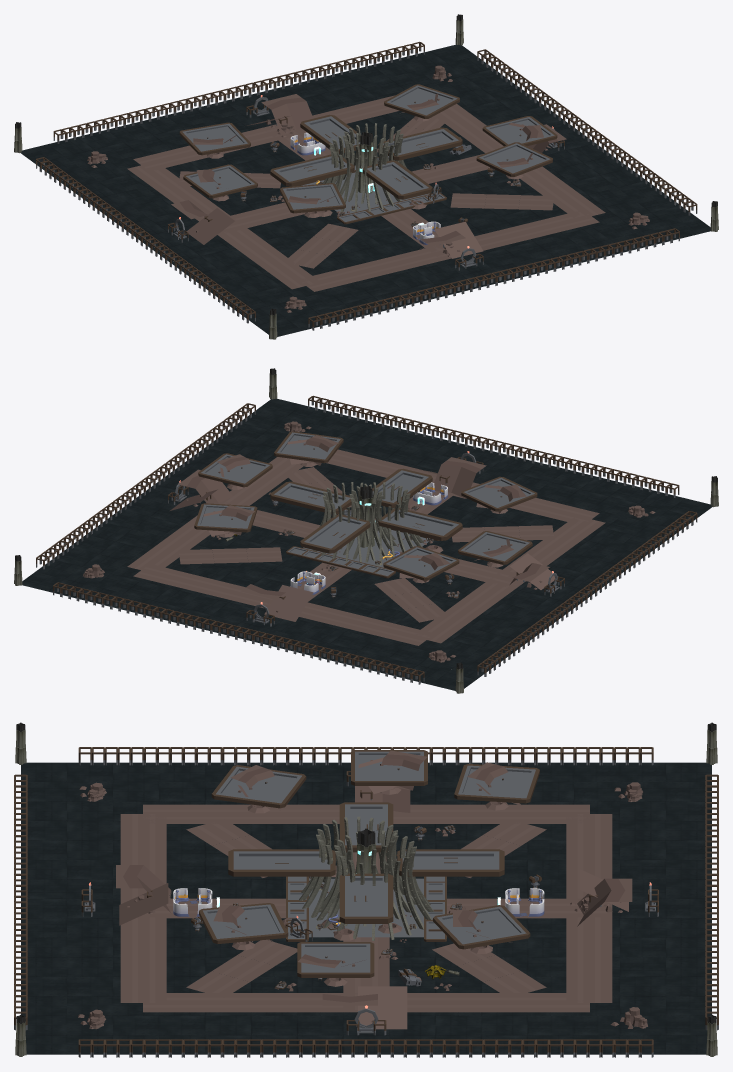
The model's file is titans.glb.
3 views of the same model, one above another, from view 1: azimuth 30°, elevation 25°; view 2: azimuth 150°, elevation 25°; view 3: azimuth 270°, elevation 25° (orthographic). The views are drawn at different scales.
Visible parts, largest first — view 1: Ceiling (×15), CentralTower__mesh_51_Mesh_tall_arch_subset_0 (×2), Canyon_S__Mesh_terrain_sideCliff_1, Island_NW__Mesh_platform_large_1, Island_SW__Mesh_platform_large_1, Island_W__Mesh_platform_large_1, Island_NE__Mesh_platform_large_1, Island_SE__Mesh_platform_large_1, Bridge_N__Mesh_platform_long_1, Canyon_N__terrain_side, Canyon_W__terrain_side, Island_E__Mesh_platform_large_1 (+9 smaller); view 2: Ceiling (×13), CentralTower__mesh_51_Mesh_tall_arch_subset_0 (×2), Canyon_N__Mesh_terrain_sideCliff_1, Canyon_S__terrain_side, Island_W__Mesh_platform_large_1, Bridge_S__Mesh_platform_long_1, Bridge_W__Mesh_platform_long_1, Island_NW__Mesh_platform_large_1, Island_E__Mesh_platform_large_1, Island_SW__Mesh_platform_large_1, Island_NE__Mesh_platform_large_1, Island_SE__Mesh_platform_large_1 (+11 smaller); view 3: Ceiling (×118), Mesh_terrain_roadStraight (×38), CentralTower__mesh_51_Mesh_tall_arch_subset_0 (×2), Canyon_E__terrain_side, Island_E__Mesh_platform_large_1, Island_NE__Mesh_platform_large_1, Island_SE__Mesh_platform_large_1, Island_SW__Mesh_platform_large_1, Bridge_E__Mesh_platform_long_1, Bridge_N__Mesh_platform_long_1, Island_NW__Mesh_platform_large_1, Bridge_S__Mesh_platform_long_1 (+18 smaller).
Part boxes in pixels (<box>): Ceiling (×15): <box>99,77,608,303</box>; CentralTower__mesh_51_Mesh_tall_arch_subset_0 (×2): <box>322,123,406,212</box>; Canyon_S__Mesh_terrain_sideCliff_1: <box>266,97,313,135</box>; Island_NW__Mesh_platform_large_1: <box>283,184,342,209</box>; Island_SW__Mesh_platform_large_1: <box>182,123,247,151</box>; Island_W__Mesh_platform_large_1: <box>186,165,254,194</box>; Island_NE__Mesh_platform_large_1: <box>479,143,550,173</box>; Island_SE__Mesh_platform_large_1: <box>387,85,457,115</box>; Bridge_N__Mesh_platform_long_1: <box>367,162,428,194</box>; Canyon_N__terrain_side: <box>434,221,483,258</box>; Canyon_W__terrain_side: <box>186,208,234,244</box>; Island_E__Mesh_platform_large_1: <box>486,117,554,144</box>; Ceiling (×13): <box>94,446,650,657</box>; CentralTower__mesh_51_Mesh_tall_arch_subset_0 (×2): <box>313,482,423,562</box>; Canyon_N__Mesh_terrain_sideCliff_1: <box>434,460,481,498</box>; Canyon_S__terrain_side: <box>264,585,313,621</box>; Island_W__Mesh_platform_large_1: <box>461,532,529,561</box>; Bridge_S__Mesh_platform_long_1: <box>304,516,366,548</box>; Bridge_W__Mesh_platform_long_1: <box>382,509,458,535</box>; Island_NW__Mesh_platform_large_1: <box>463,477,534,507</box>; Island_E__Mesh_platform_large_1: <box>201,454,269,483</box>; Island_SW__Mesh_platform_large_1: <box>386,547,456,577</box>; Island_NE__Mesh_platform_large_1: <box>277,432,340,459</box>; Island_SE__Mesh_platform_large_1: <box>197,504,254,528</box>; Ceiling (×118): <box>21,762,711,1054</box>; Mesh_terrain_roadStraight (×38): <box>120,804,612,1012</box>; CentralTower__mesh_51_Mesh_tall_arch_subset_0 (×2): <box>299,816,433,940</box>; Canyon_E__terrain_side: <box>358,986,407,1029</box>; Island_E__Mesh_platform_large_1: <box>301,943,370,972</box>; Island_NE__Mesh_platform_large_1: <box>203,904,284,938</box>; Island_SE__Mesh_platform_large_1: <box>437,906,526,944</box>; Island_SW__Mesh_platform_large_1: <box>458,765,535,798</box>; Bridge_E__Mesh_platform_long_1: <box>345,876,387,916</box>; Bridge_N__Mesh_platform_long_1: <box>233,851,330,869</box>; Island_NW__Mesh_platform_large_1: <box>216,766,301,803</box>; Bridge_S__Mesh_platform_long_1: <box>402,851,499,869</box>.
Size of the model in its own units: 184 by 22.21 by 184.
Materials: 186 (62 with a texture image).
